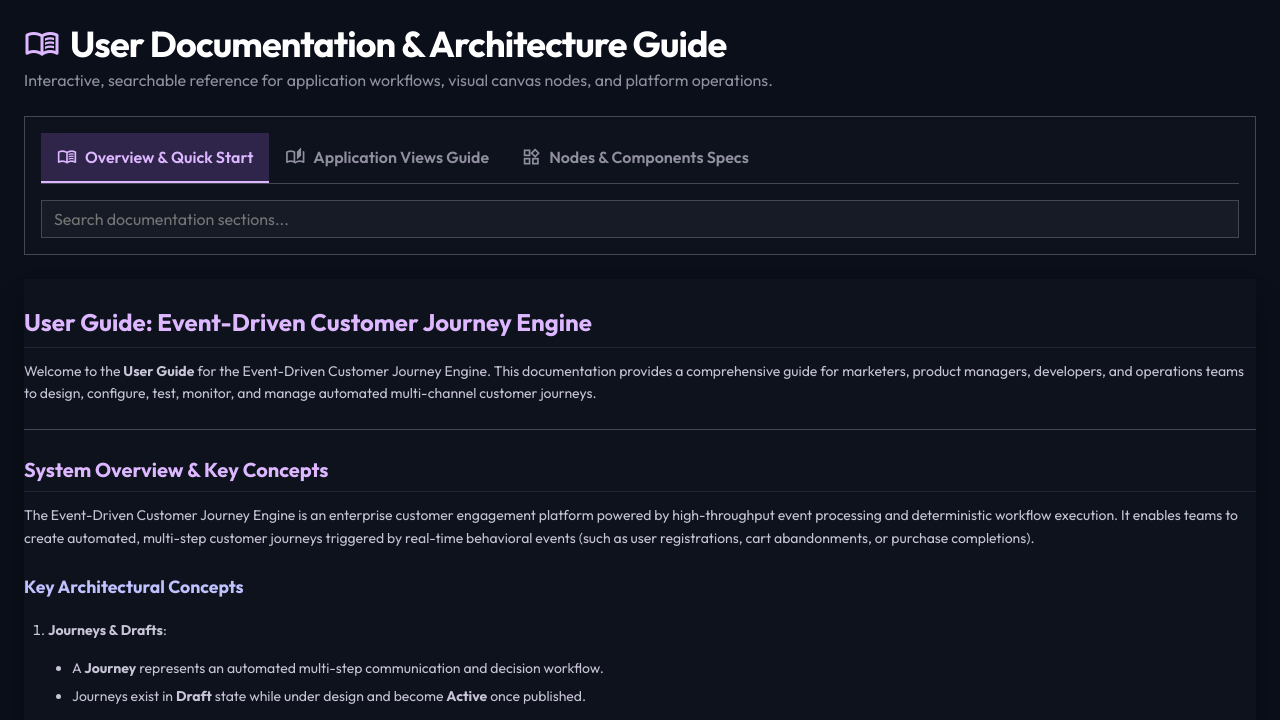
Scenario: DocumentationPage Component › switches documentation section tabs on tab click
Click the button with test id "docs-tab-pages" at (387, 158), box top-left (269, 133), bottom-right (505, 183)
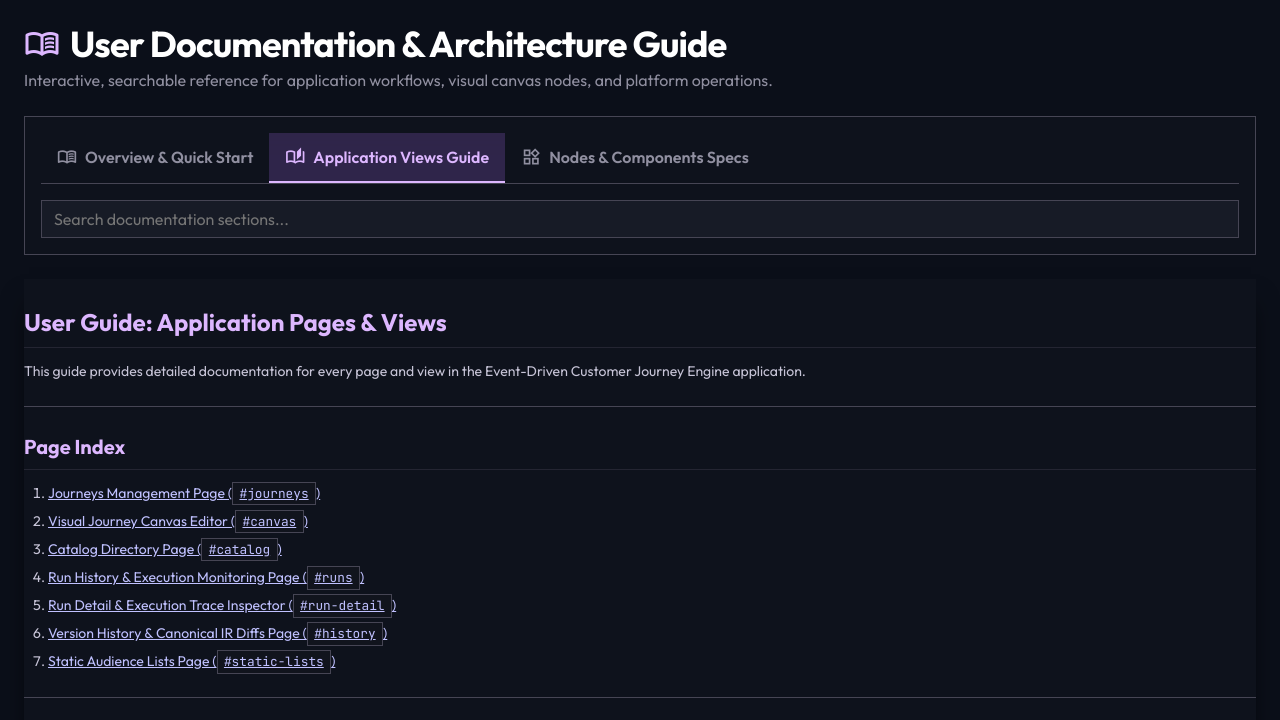
Result: the heading "User Guide: Application Pages & Views" is shown at top-left (24, 303), bottom-right (1256, 348)
